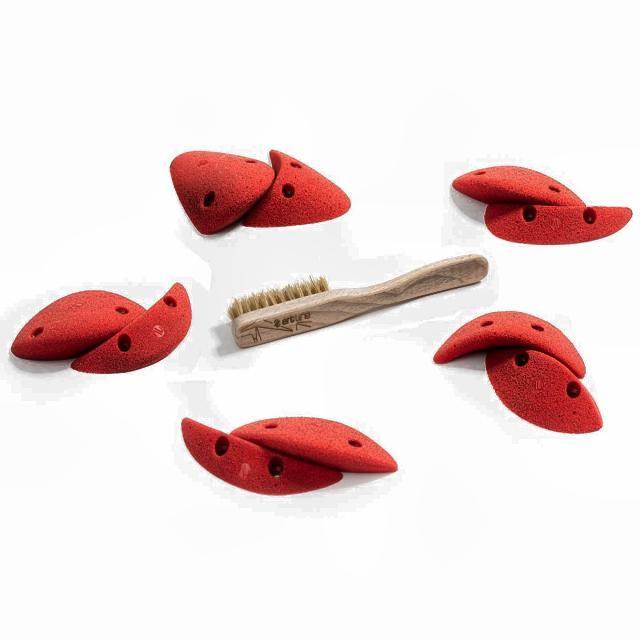Hold: (432, 311, 605, 433), (188, 406, 396, 489), (169, 148, 355, 232), (12, 292, 199, 371), (456, 168, 633, 245)
